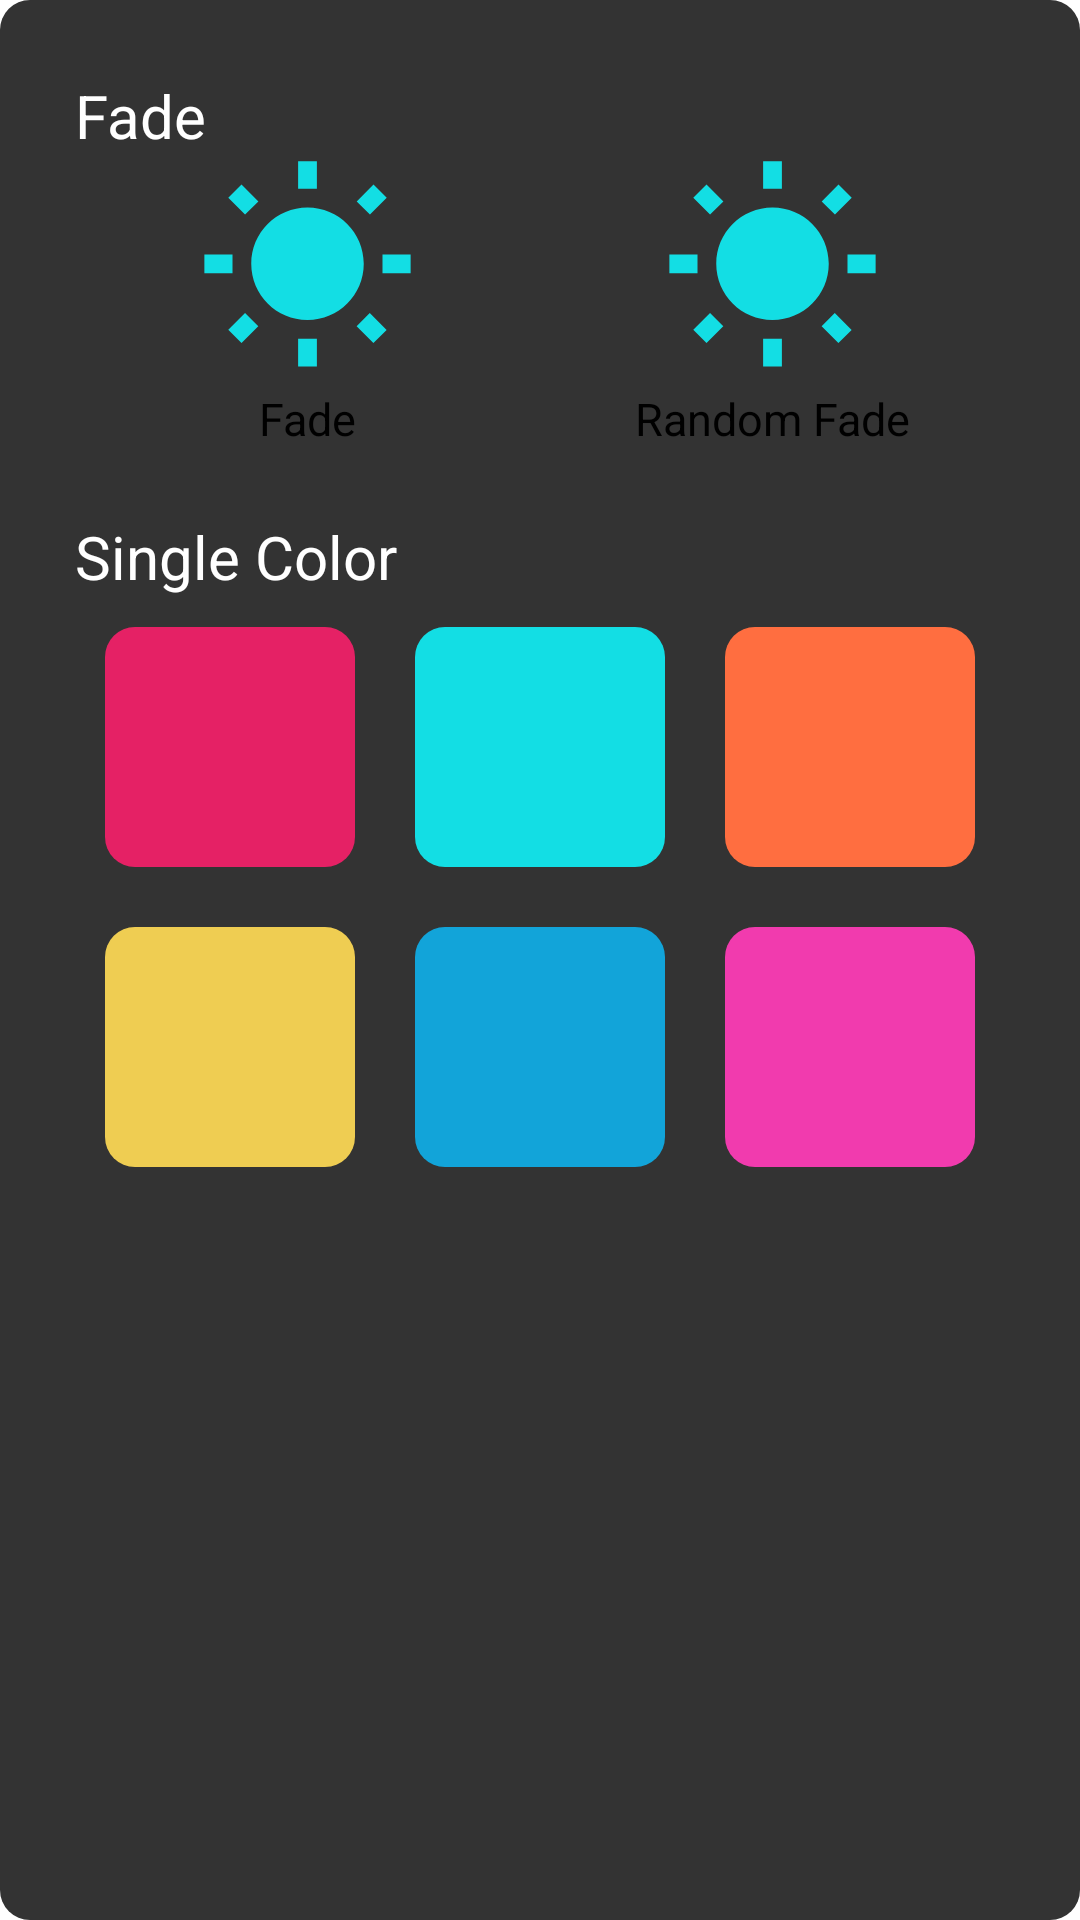

Where to tap for icons on this 1080*1920 app screen, as (x=x, y=y):
sunny: (x=307, y=264), (x=772, y=264)
